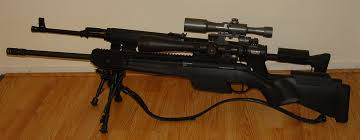gun: (3, 42, 348, 134), (29, 15, 332, 79)
